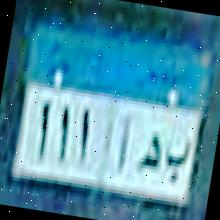1: (49, 96, 76, 168), (32, 98, 56, 170), (74, 102, 94, 166)
alif: (114, 110, 136, 178)
baa: (160, 128, 193, 190)
haa: (129, 119, 167, 184)
